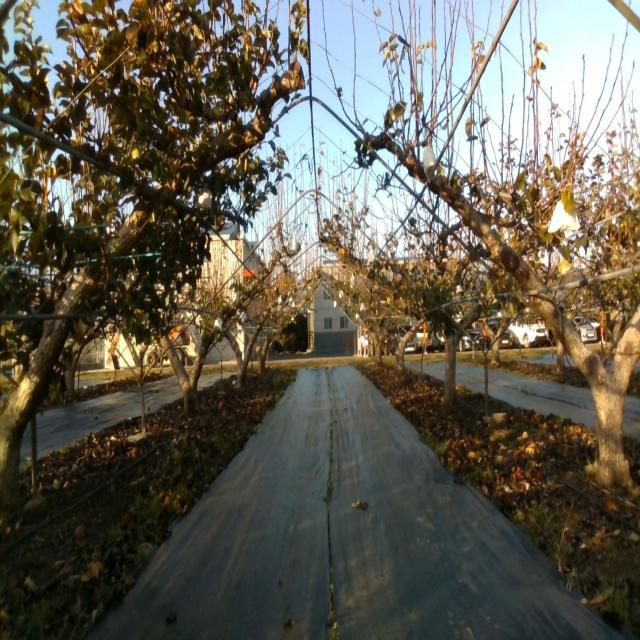pearbags: (547, 200, 581, 233), (423, 144, 436, 184), (195, 182, 212, 210)
